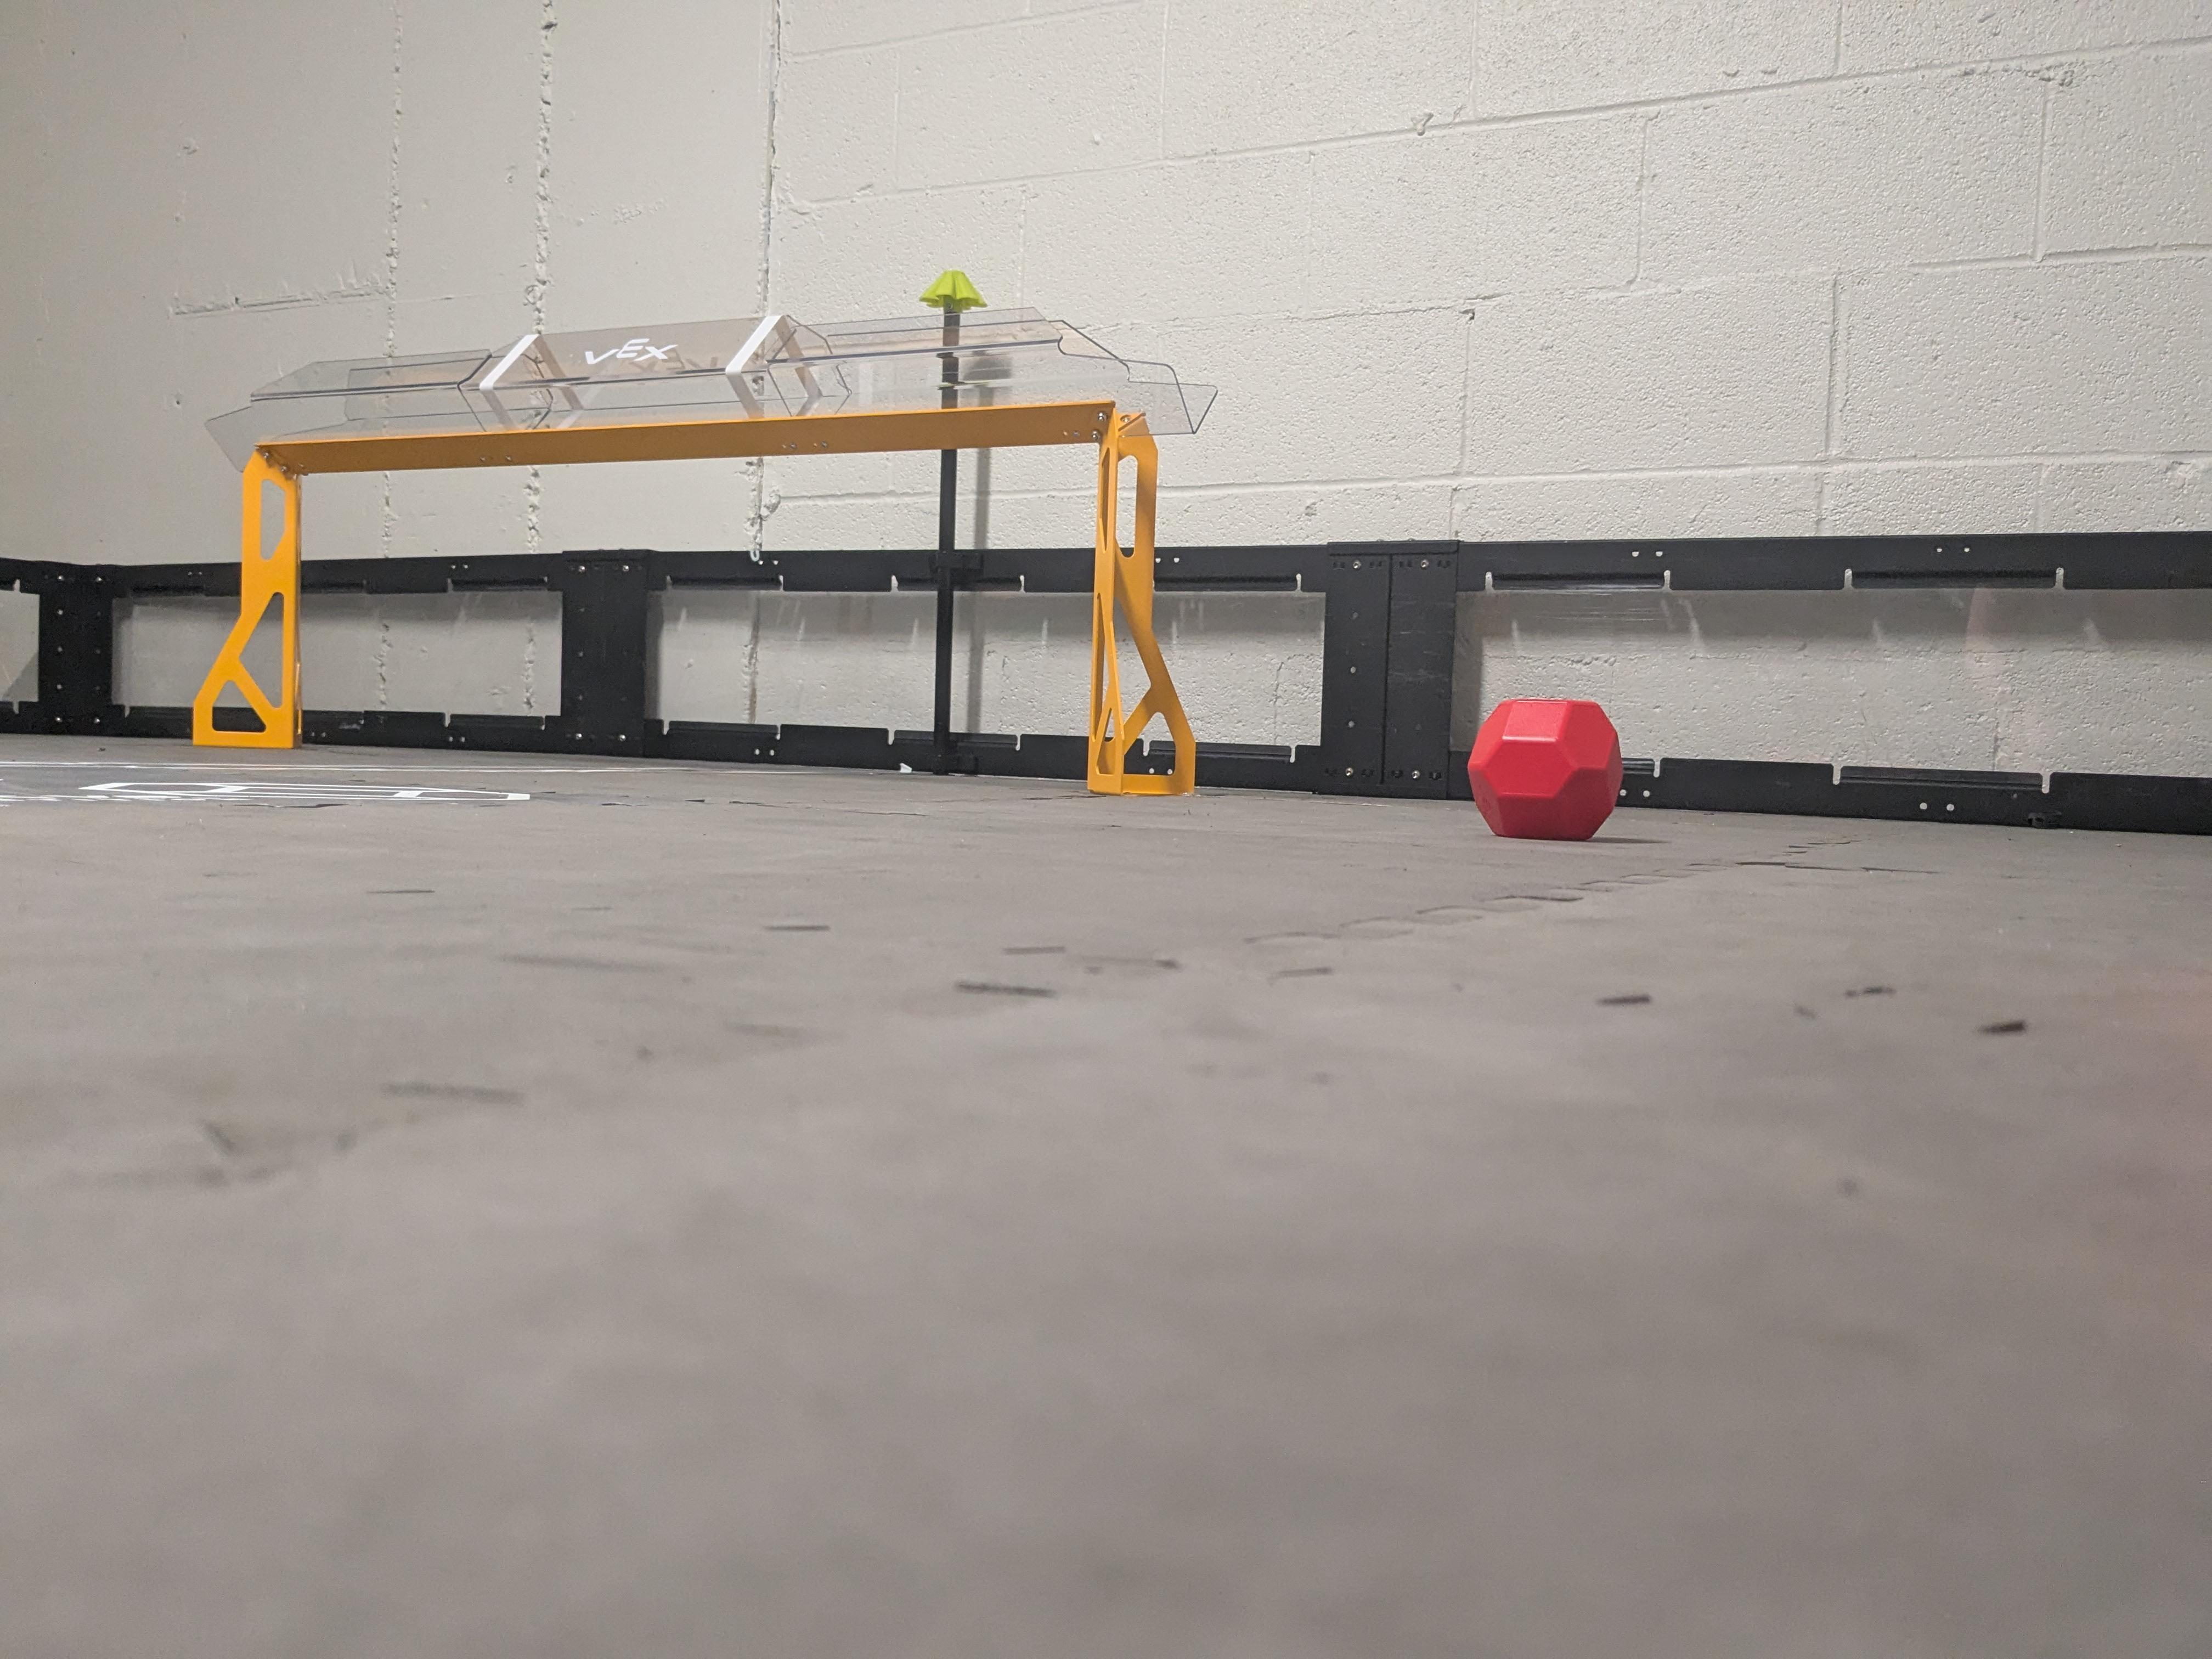Vex-Pieces-RED: (1472, 702, 1616, 836)
